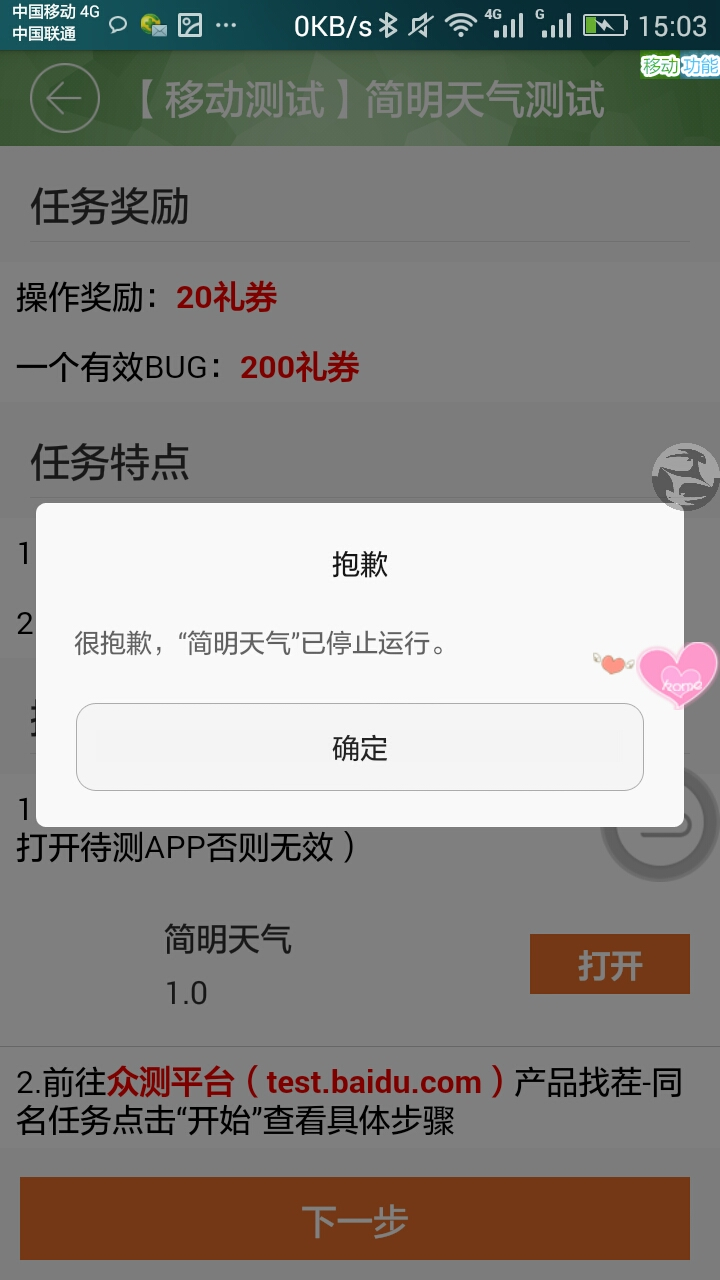alert: (22, 488, 706, 848)
button: (18, 1164, 701, 1277)
